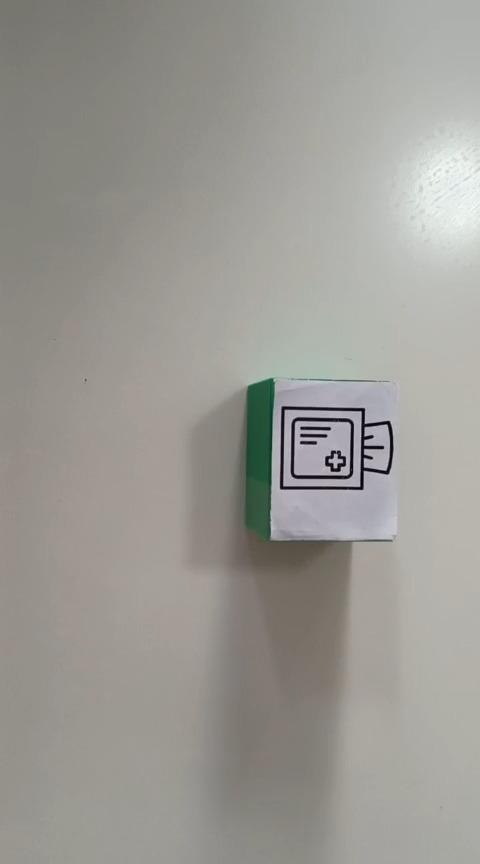Gauze: (243, 375, 399, 543)
